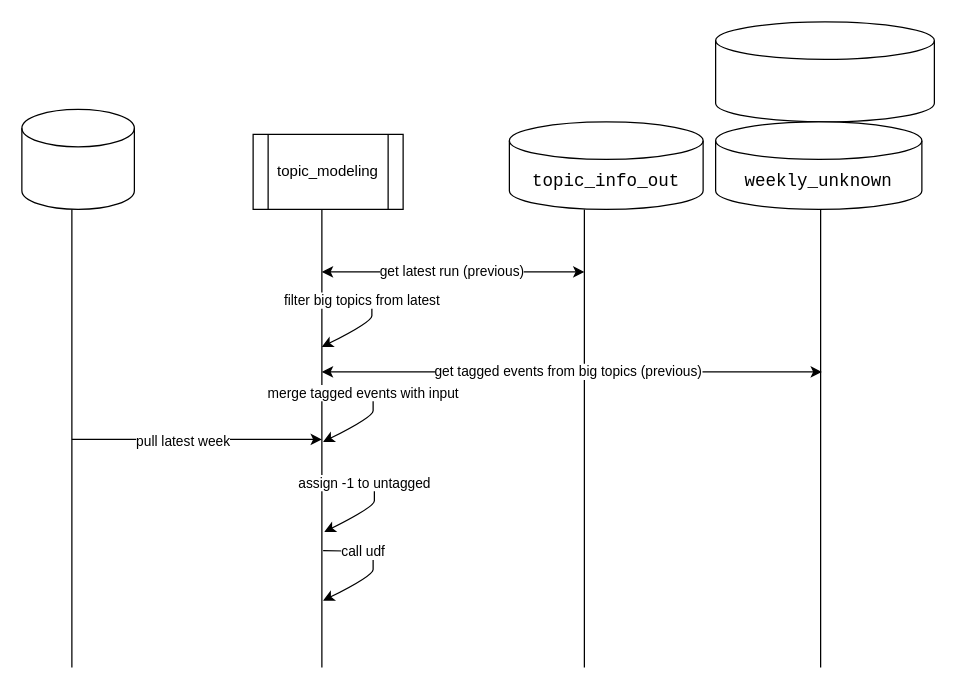
Some shapes in this 968 by 691 pixel diagram are drawn without their labels. Each missing label, with the centre of its shape:
group_input: (x=77, y=158)
topic_to_topic_keys_out: (x=824, y=71)
